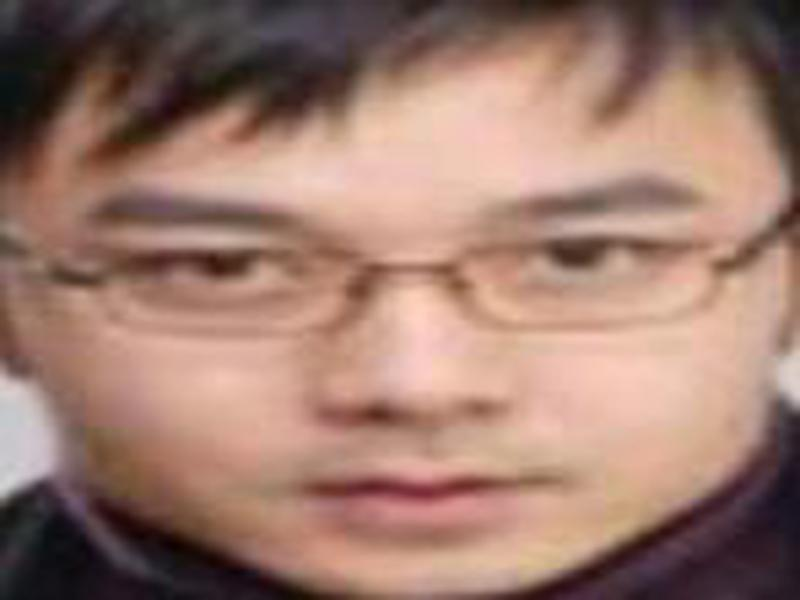without_mask: (25, 63, 772, 597)
